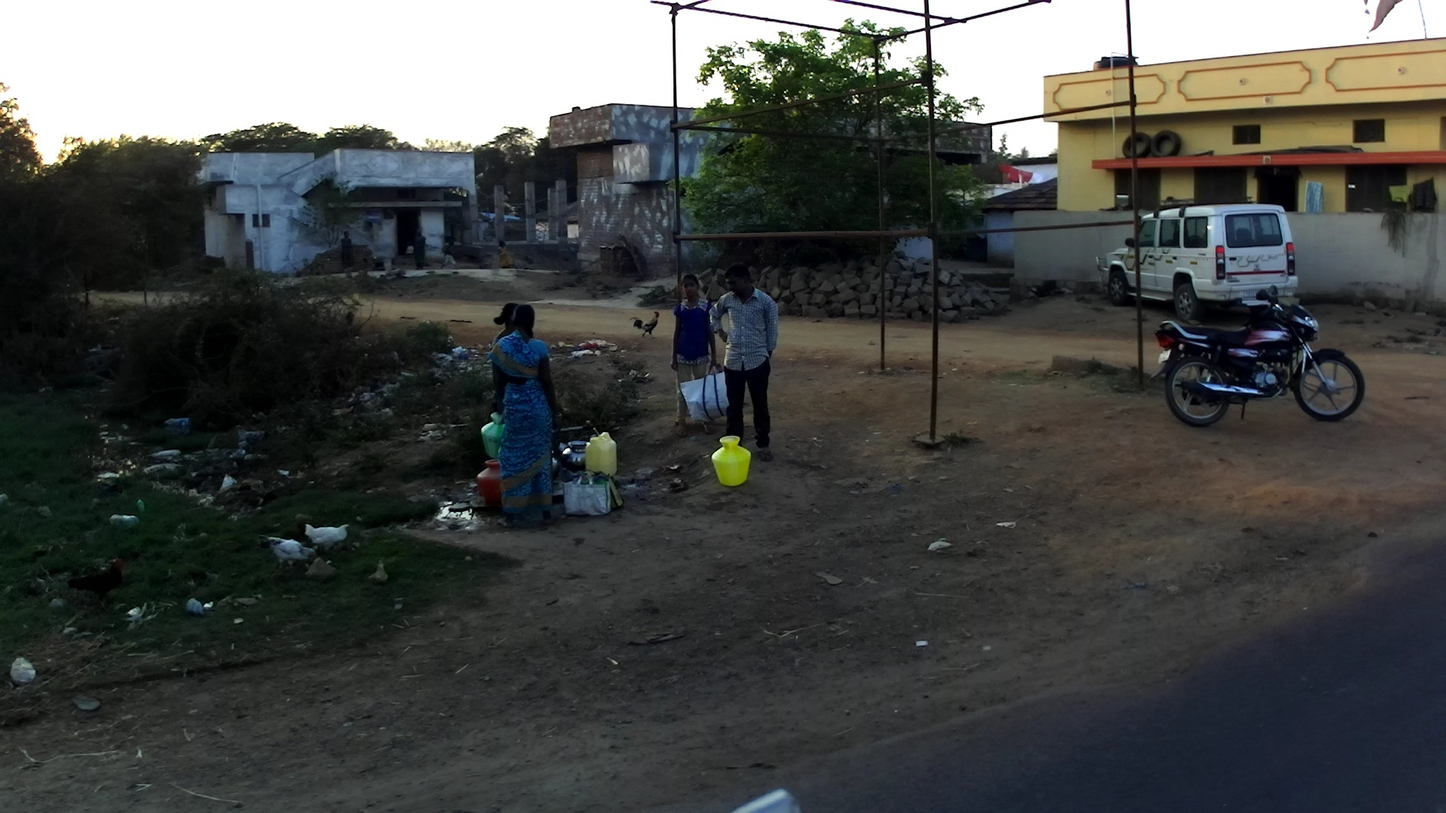animal: (630, 310, 661, 339)
car: (1094, 196, 1298, 323)
motorcycle: (1150, 285, 1365, 427)
person: (490, 303, 562, 529), (709, 263, 779, 462), (670, 272, 718, 438), (475, 301, 520, 476), (411, 227, 428, 271), (340, 230, 355, 278), (493, 239, 516, 269), (439, 239, 459, 269)
